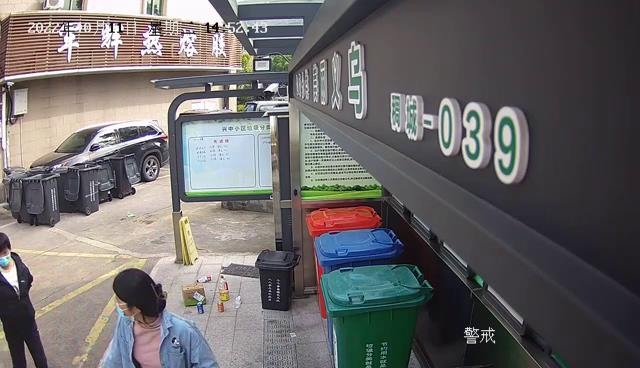lvzhipin: (197, 300, 205, 314), (216, 299, 224, 313)
person: (1, 226, 50, 368)
suliaozhipin: (218, 273, 231, 302), (194, 273, 212, 283)
worker: (98, 266, 219, 368)
zhizhipin: (182, 283, 207, 306)
